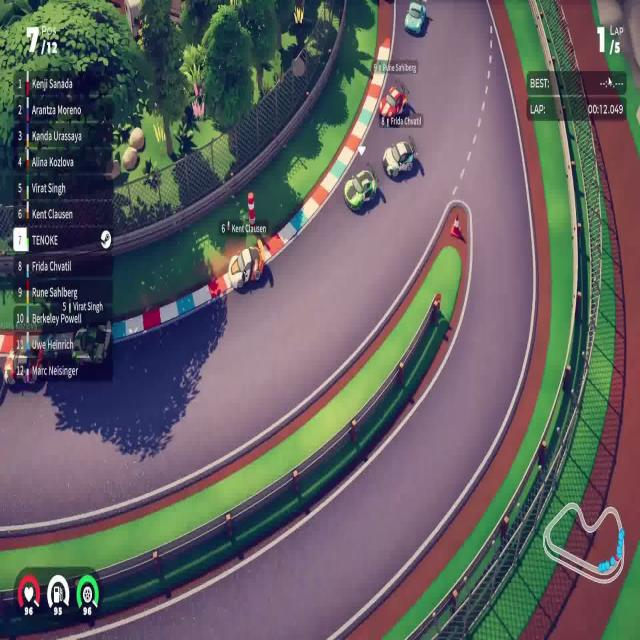car: (70, 319, 111, 370), (229, 239, 265, 293), (343, 168, 378, 213), (382, 139, 416, 179), (378, 84, 408, 125), (404, 1, 426, 36)
